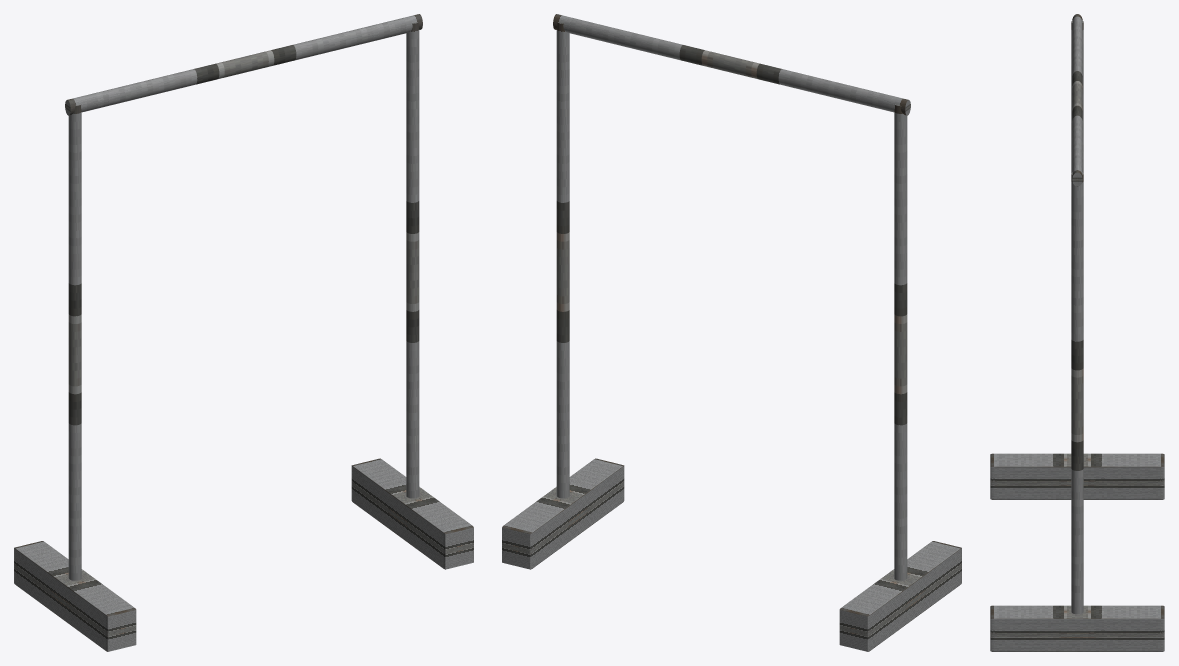
The model's file is hanging-rail.glb.
3 views of the same model, side by side, from view 1: azimuth 30°, elevation 25°; view 2: azimuth 150°, elevation 25°; view 3: azimuth 270°, elevation 25° (orthographic). The views are drawn at different scales.
Visible parts, largest first — view 1: foot (×2), post (×2), rail; view 2: foot (×2), post (×2), rail; view 3: foot (×2), post (×2), rail.
Boxes of the visible parts, x1=… form: foot (×2): x1=14, y1=458, x2=473, y2=651; post (×2): x1=68, y1=22, x2=419, y2=580; rail: x1=65, y1=14, x2=422, y2=115; foot (×2): x1=502, y1=458, x2=961, y2=651; post (×2): x1=556, y1=22, x2=907, y2=580; rail: x1=553, y1=14, x2=910, y2=115; foot (×2): x1=990, y1=453, x2=1164, y2=651; post (×2): x1=1071, y1=20, x2=1083, y2=614; rail: x1=1072, y1=14, x2=1082, y2=186.
Bounding box in the file's own units: 1.12 × 1.51 × 0.5.
1 material, 1 textured.
